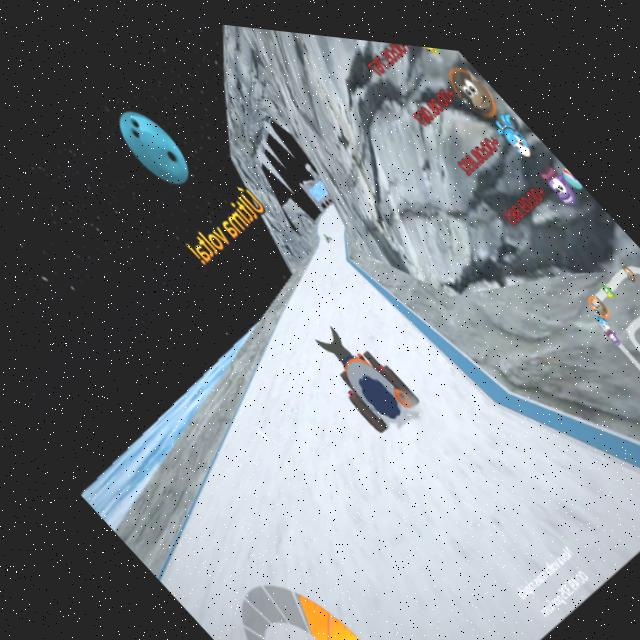enemy_kart: (313, 221, 332, 239)
off_track: (39, 287, 276, 522)
player_kart: (297, 305, 424, 438)
